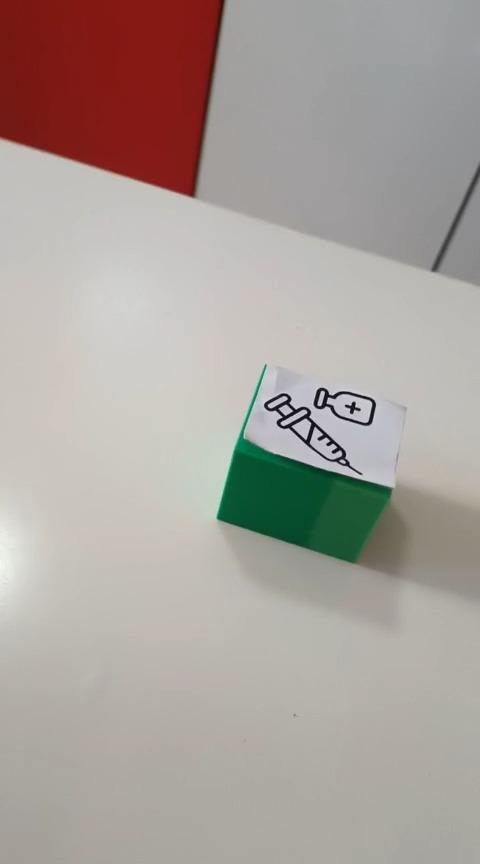antiseptic cream: (215, 361, 408, 564)
